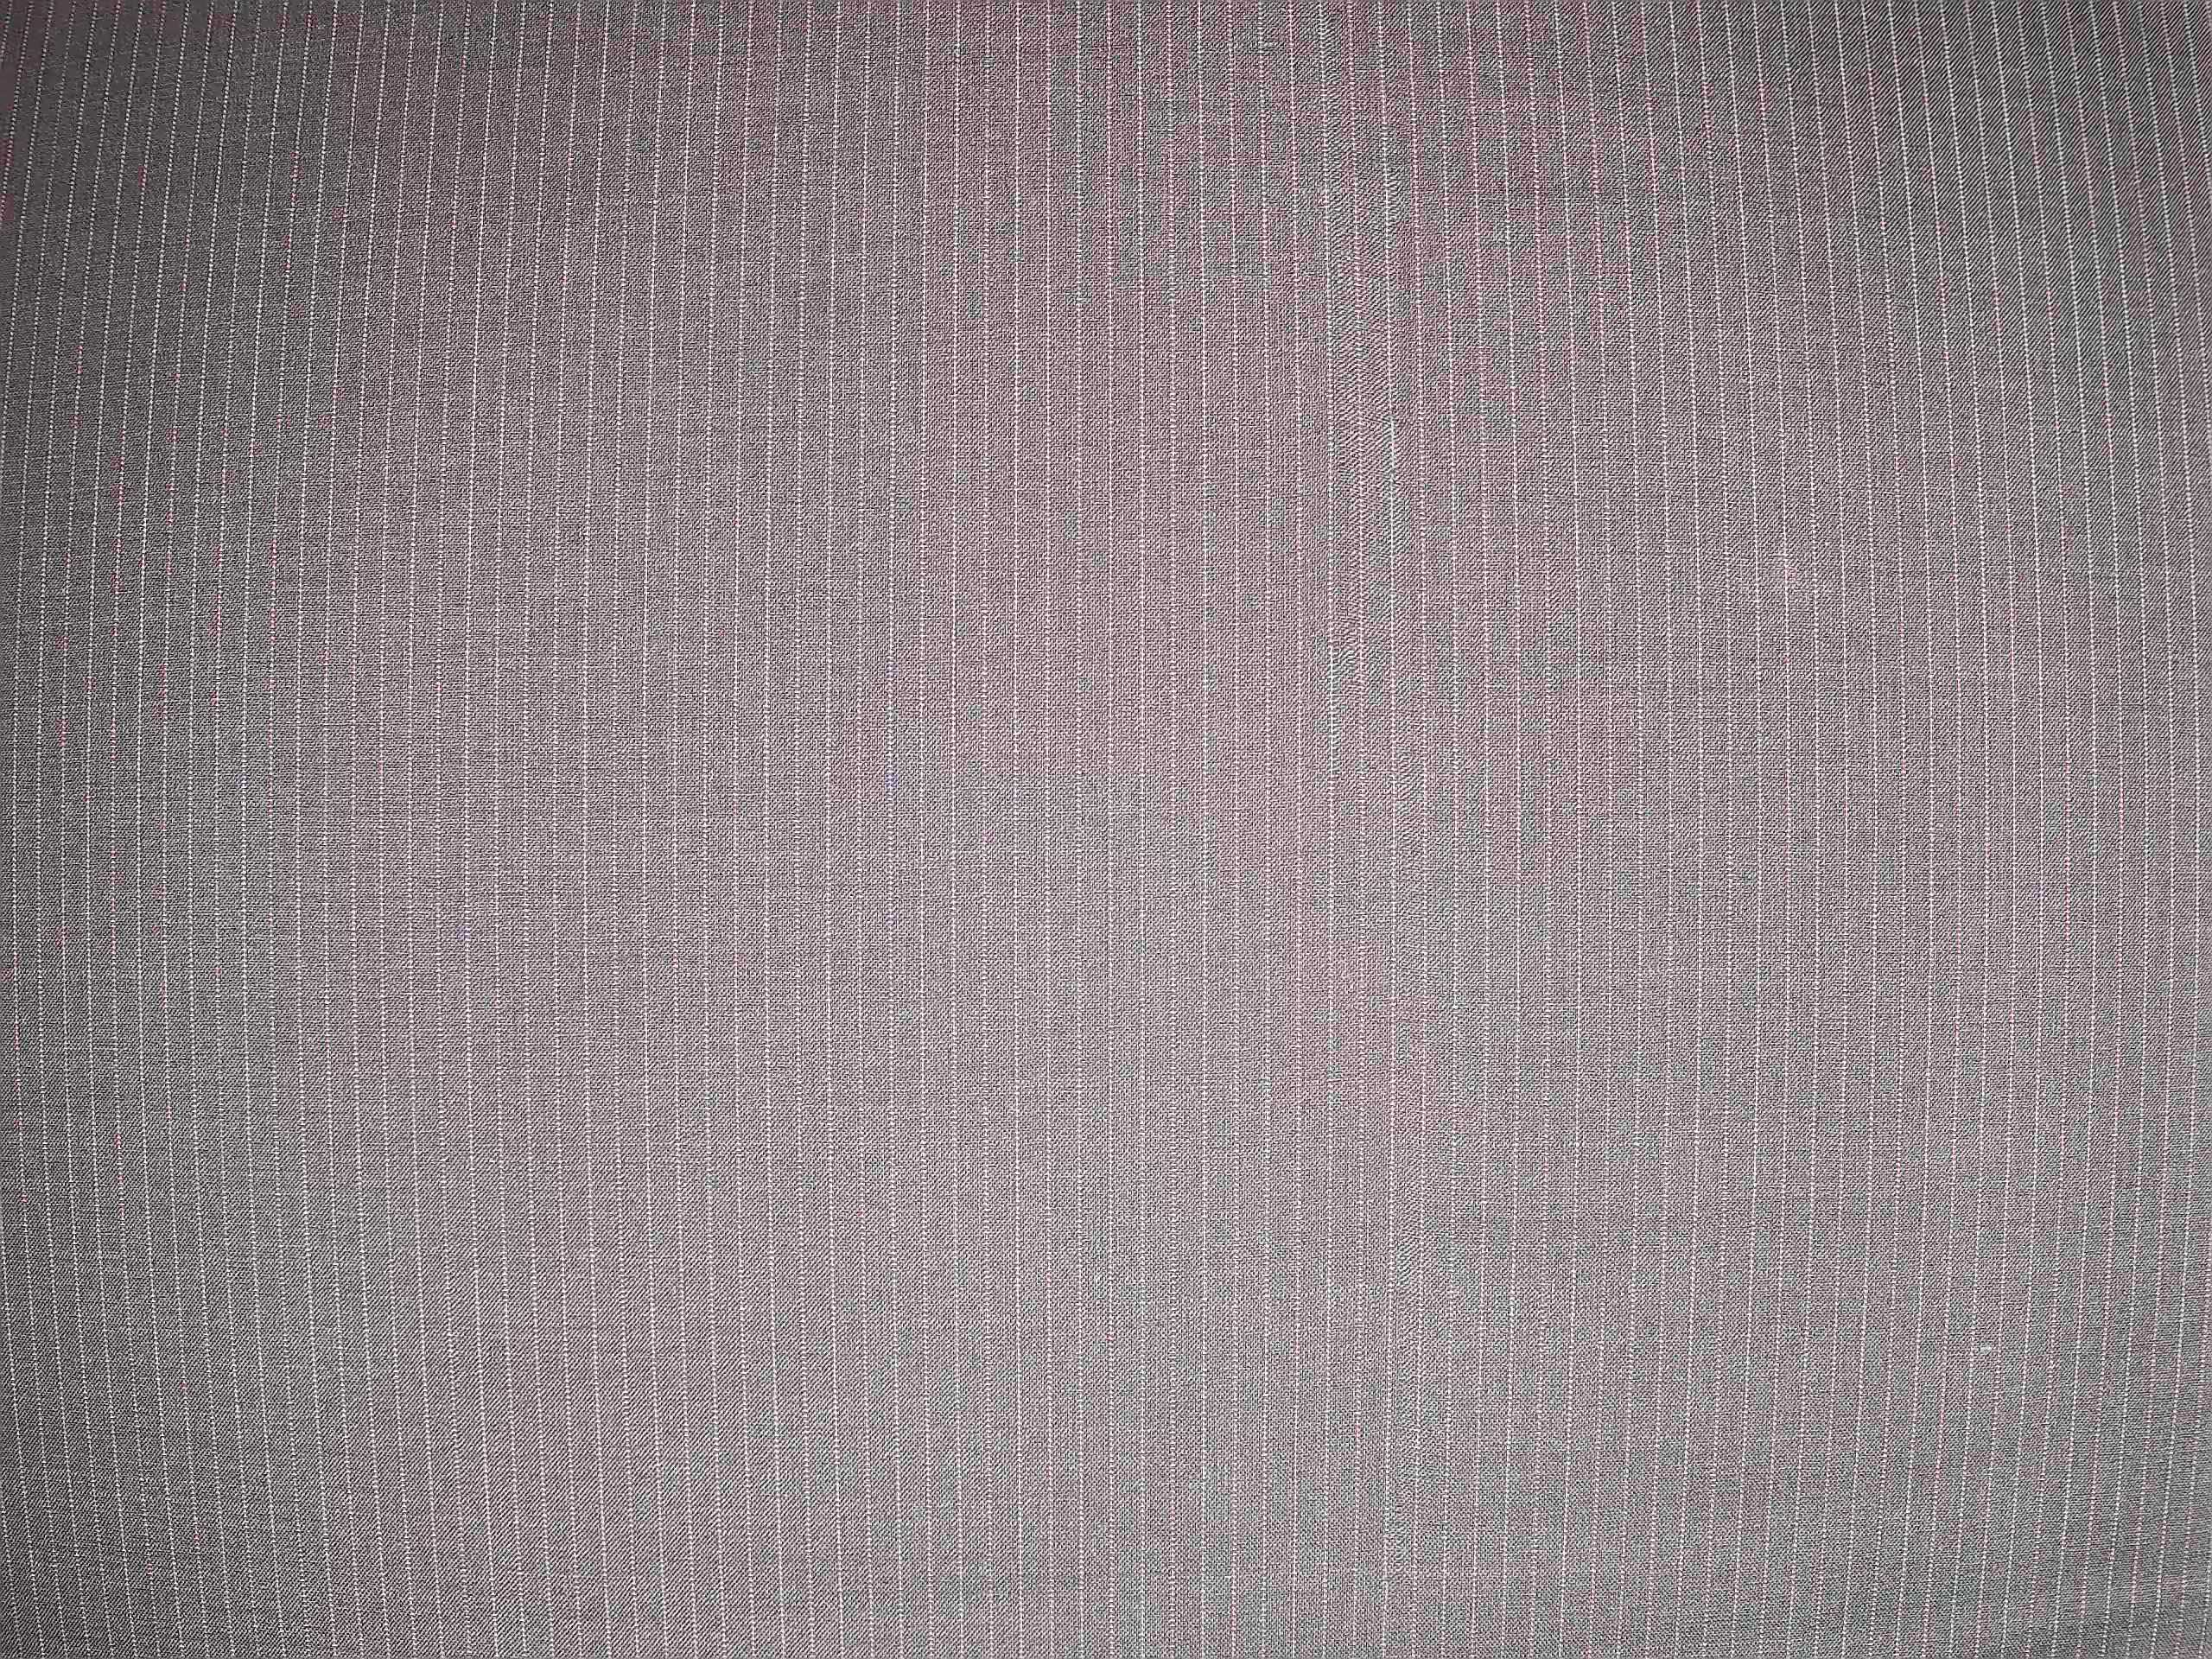hanging-warp: (1313, 10, 1406, 829)
